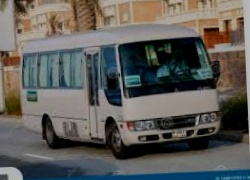bus: (20, 19, 223, 166)
